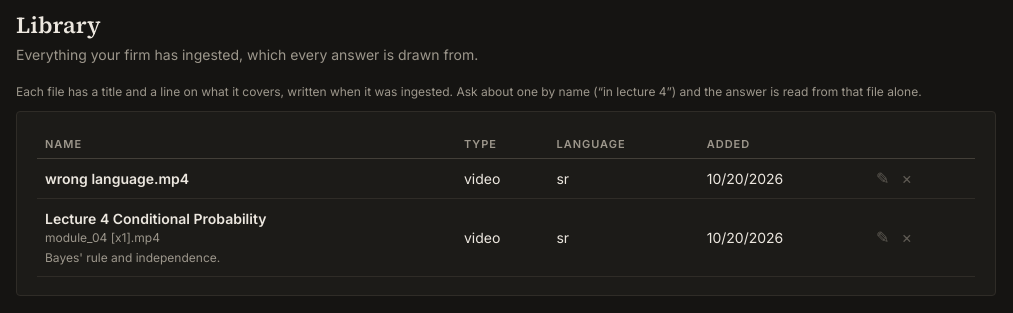
Scenario: deleting from the Library › lets an administrator delete a file after confirming
Click the button named "Delete". click: (907, 178)
box: [896,168,918,188]
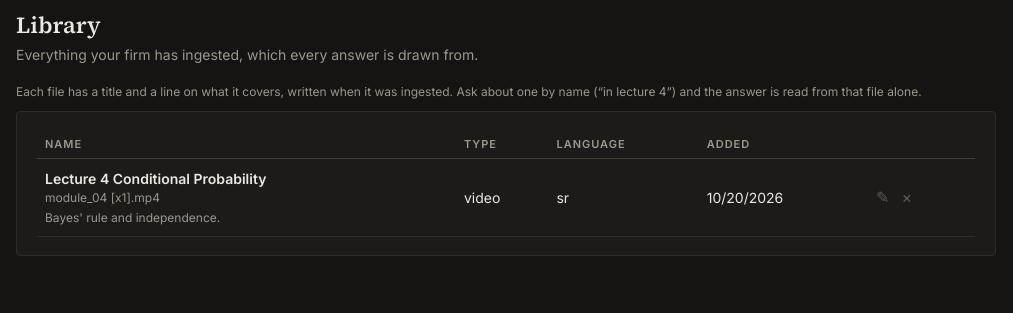
Expected: the text "wrong language.mp4" is gone
